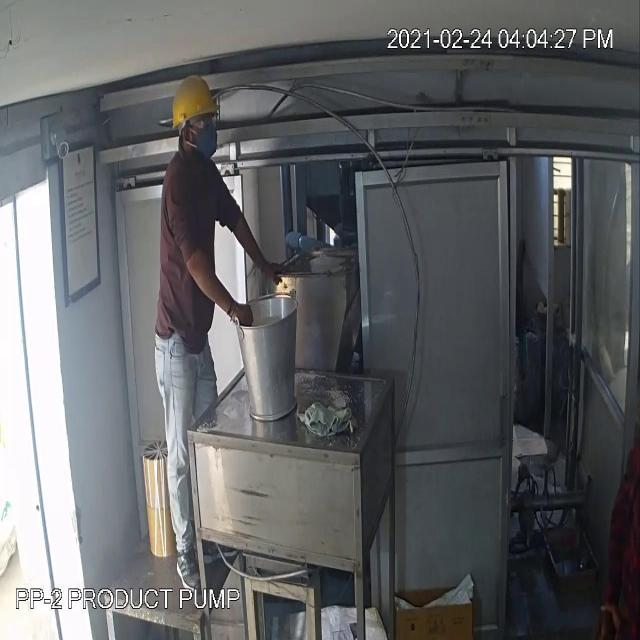helmet: (164, 73, 228, 138)
